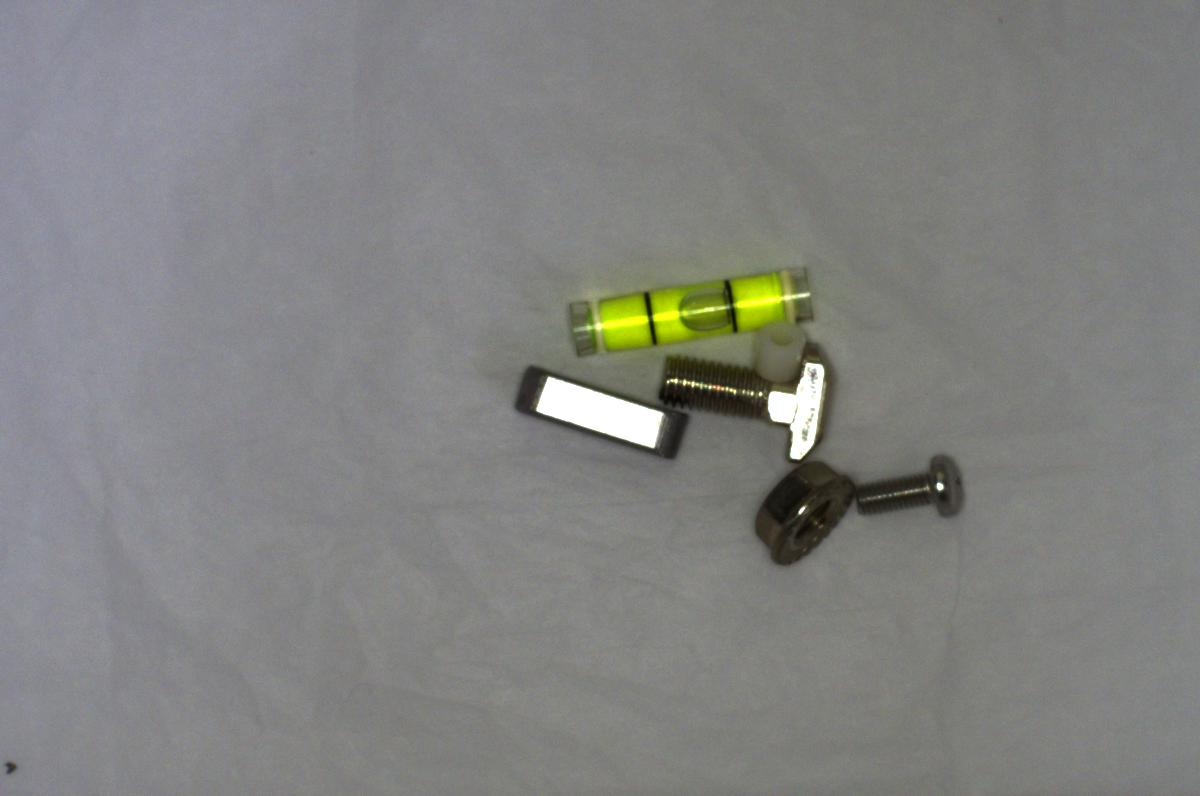Flange nut: (747, 458, 858, 570)
Horizontal bubble: (539, 253, 824, 352)
Keybar: (500, 365, 691, 461)
Plastic cushion pillar: (738, 320, 813, 382)
Round head screw: (852, 458, 967, 523)
T-shaped screw: (640, 340, 838, 458)
